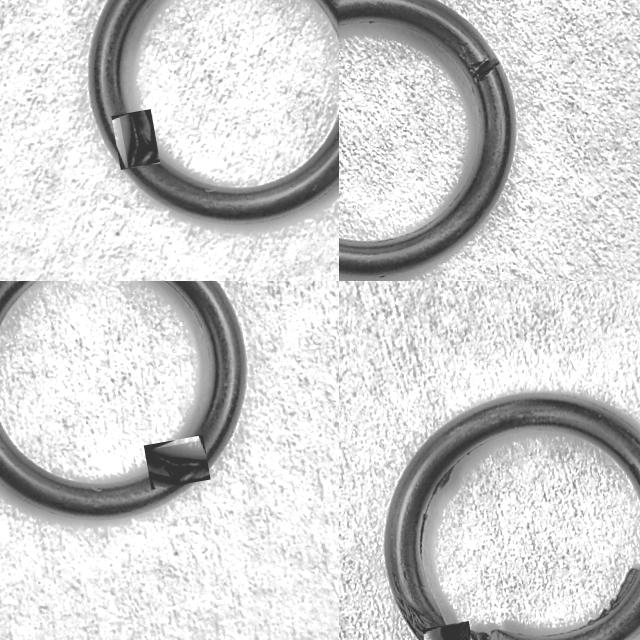侧边压痕: (377, 274, 390, 279)
切割缺陷: (390, 575, 446, 640), (145, 450, 207, 485), (129, 112, 158, 167), (466, 53, 500, 88)
裂纹: (586, 566, 638, 626), (434, 465, 454, 493), (419, 513, 427, 559), (367, 21, 377, 24)
